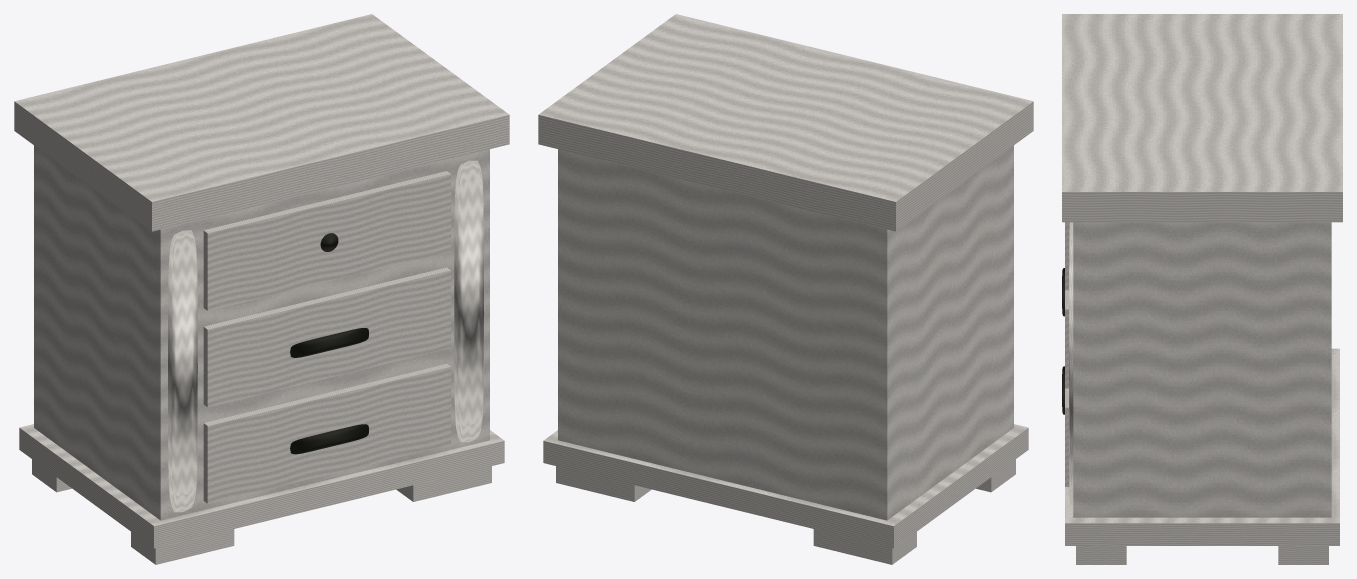
The picture shows the model from 3 angles, left to right: view 1: azimuth 30°, elevation 25°; view 2: azimuth 150°, elevation 25°; view 3: azimuth 270°, elevation 25°; orthographic projection. The views are drawn at different scales.
Parts seen in each view (by area): view 1: 1 top panel, 2 cabinet body, 10 top drawer front, 11 middle drawer front, 12 bottom drawer front, 3 base molding, 9 right pilaster, 8 left pilaster, 4 front left foot, 5 front right foot, 14 middle drawer handle, 15 bottom drawer handle; view 2: 2 cabinet body, 1 top panel, 3 base molding, 6 back left foot, 7 back right foot; view 3: 2 cabinet body, 1 top panel, 3 base molding, 9 right pilaster, 5 front right foot, 7 back right foot, 12 bottom drawer front, 11 middle drawer front.
Boxes of the visible parts, bbox=[...] form: 1 top panel: bbox=[14, 14, 509, 231]; 2 cabinet body: bbox=[34, 145, 489, 520]; 10 top drawer front: bbox=[203, 171, 450, 310]; 11 middle drawer front: bbox=[203, 267, 450, 407]; 12 bottom drawer front: bbox=[203, 364, 450, 503]; 3 base molding: bbox=[19, 424, 504, 548]; 9 right pilaster: bbox=[454, 160, 483, 442]; 8 left pilaster: bbox=[168, 230, 197, 512]; 4 front left foot: bbox=[131, 529, 234, 564]; 5 front right foot: bbox=[396, 466, 491, 501]; 14 middle drawer handle: bbox=[290, 328, 368, 357]; 15 bottom drawer handle: bbox=[290, 424, 368, 454]; 2 cabinet body: bbox=[558, 145, 1013, 520]; 1 top panel: bbox=[538, 14, 1033, 231]; 3 base molding: bbox=[543, 424, 1028, 548]; 6 back left foot: bbox=[813, 529, 916, 564]; 7 back right foot: bbox=[556, 466, 651, 501]; 2 cabinet body: bbox=[1073, 222, 1331, 517]; 1 top panel: bbox=[1062, 14, 1342, 222]; 3 base molding: bbox=[1065, 348, 1339, 545]; 9 right pilaster: bbox=[1069, 222, 1073, 505]; 5 front right foot: bbox=[1076, 546, 1126, 564]; 7 back right foot: bbox=[1278, 546, 1328, 564]; 12 bottom drawer front: bbox=[1065, 388, 1069, 486]; 11 middle drawer front: bbox=[1065, 290, 1068, 388].
Bounding box in the file's own units: 1.01 × 1 × 0.673.
Materials: 2 (1 with a texture image).
